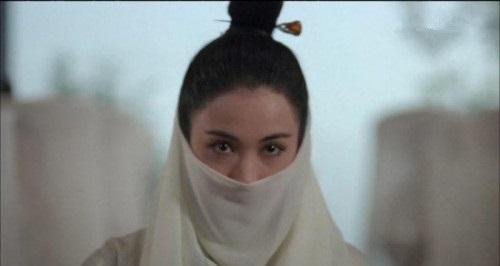WRONG: (193, 105, 300, 236)
